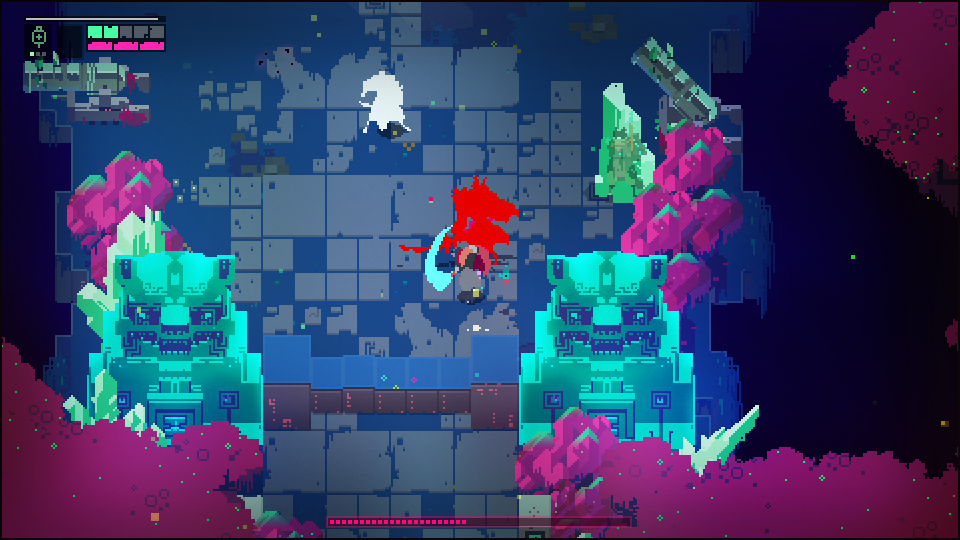hanged_man: (423, 176, 523, 275)
player: (423, 222, 490, 300)
